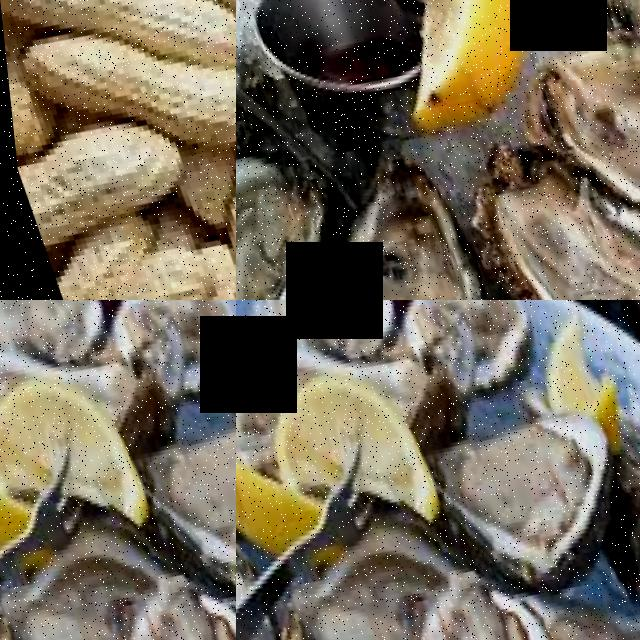lemon: (252, 350, 438, 517), (0, 353, 146, 520)
oysters: (418, 385, 640, 586), (503, 0, 640, 300), (304, 150, 509, 300), (459, 132, 640, 300), (244, 496, 455, 640), (0, 500, 164, 640), (127, 389, 236, 589), (316, 564, 592, 640), (236, 133, 358, 300), (371, 300, 545, 391), (80, 300, 236, 395)
peanuts: (5, 103, 196, 246), (0, 10, 160, 132), (122, 35, 236, 164), (52, 231, 236, 300), (0, 0, 142, 59)
